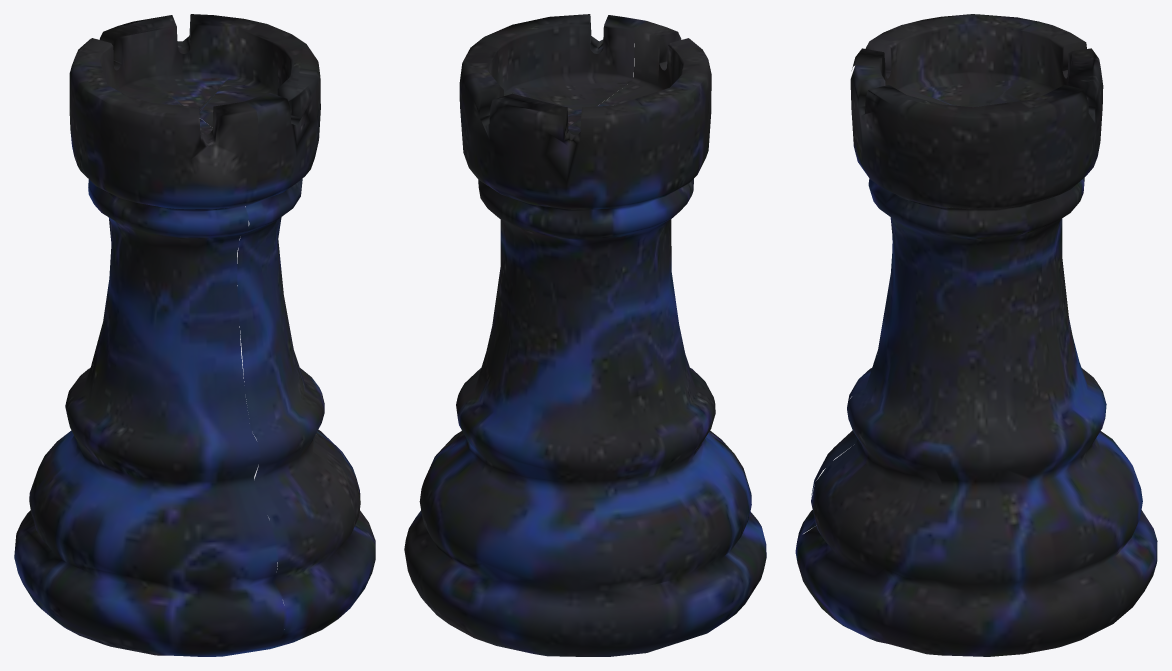
Rendered from cobalt_vein_black_rook.glb.
The picture shows the model from 3 angles, left to right: view 1: azimuth 30°, elevation 25°; view 2: azimuth 150°, elevation 25°; view 3: azimuth 270°, elevation 25°; orthographic projection.
Parts seen in each view (by area): view 1: Cobalt Vein black rook; view 2: Cobalt Vein black rook; view 3: Cobalt Vein black rook.
Part boxes in pixels (box(x1,y1,x2,y2)): Cobalt Vein black rook: box(14, 14, 375, 656); Cobalt Vein black rook: box(404, 14, 766, 656); Cobalt Vein black rook: box(795, 14, 1157, 656).
Bounding box in the file's own units: 0.036 × 0.058 × 0.0359.
Materials: 1 (1 with a texture image).
